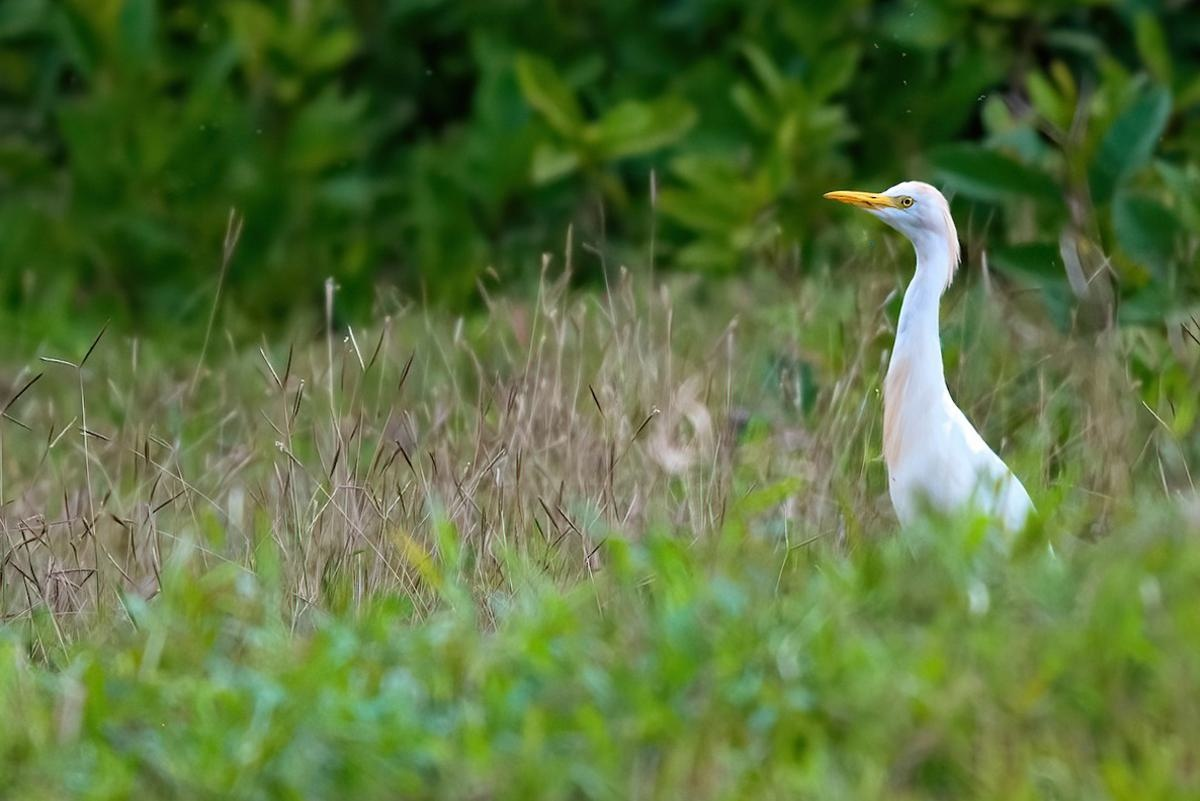egret: (788, 148, 1093, 554)
